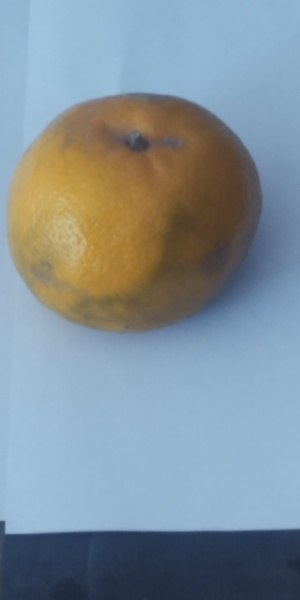BAD: (6, 92, 270, 339)
